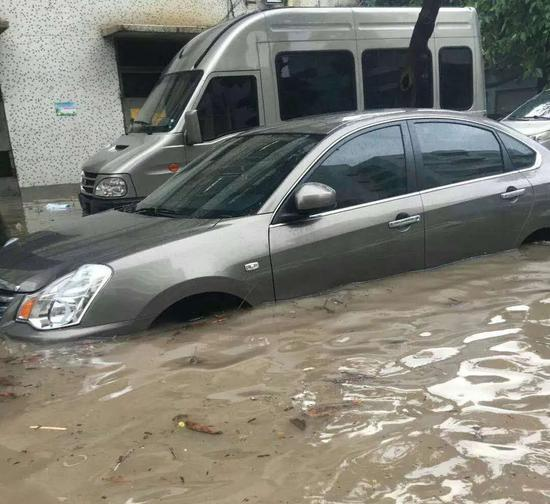water: (1, 245, 549, 503), (1, 178, 85, 250)
